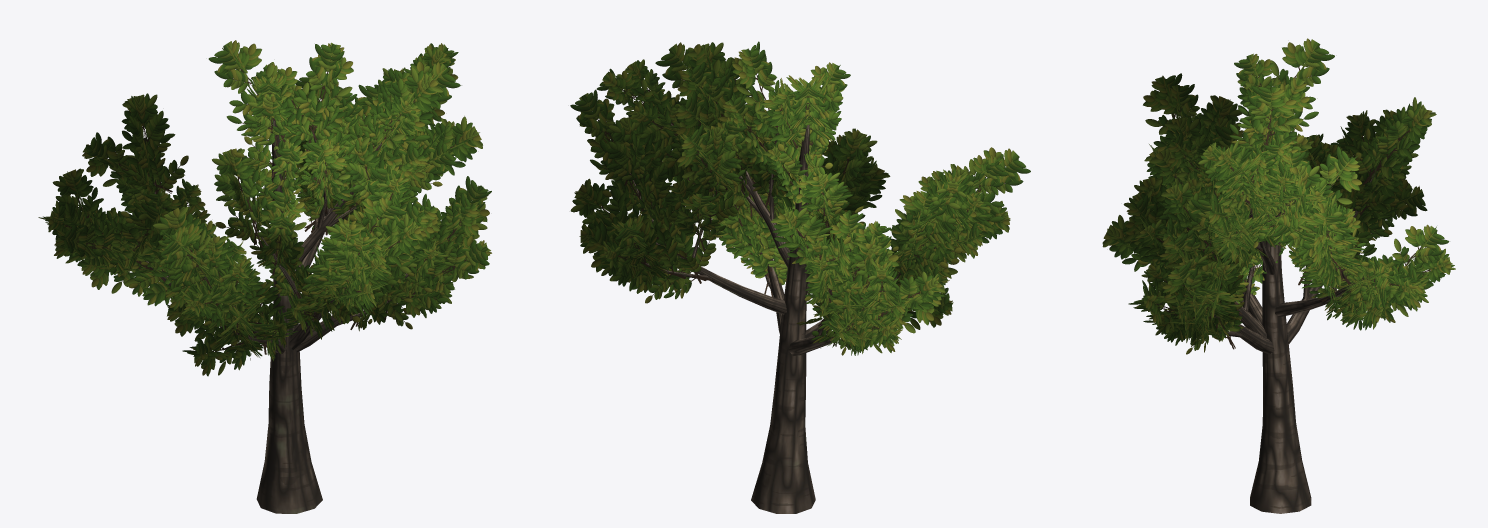
Rendered from oak.gltf.
3 views of the same model, side by side, from view 1: azimuth 30°, elevation 25°; view 2: azimuth 150°, elevation 25°; view 3: azimuth 270°, elevation 25° (orthographic). The views are drawn at different scales.
Visible parts, largest first — view 1: oak; view 2: oak; view 3: oak.
Boxes of the visible parts, x1,y1,x2,y2 form: oak: (38, 40, 491, 513); oak: (570, 41, 1030, 513); oak: (1102, 38, 1455, 513).
Size of the model in its own units: 8.32 by 8.66 by 6.63.
2 materials, 2 textured.
